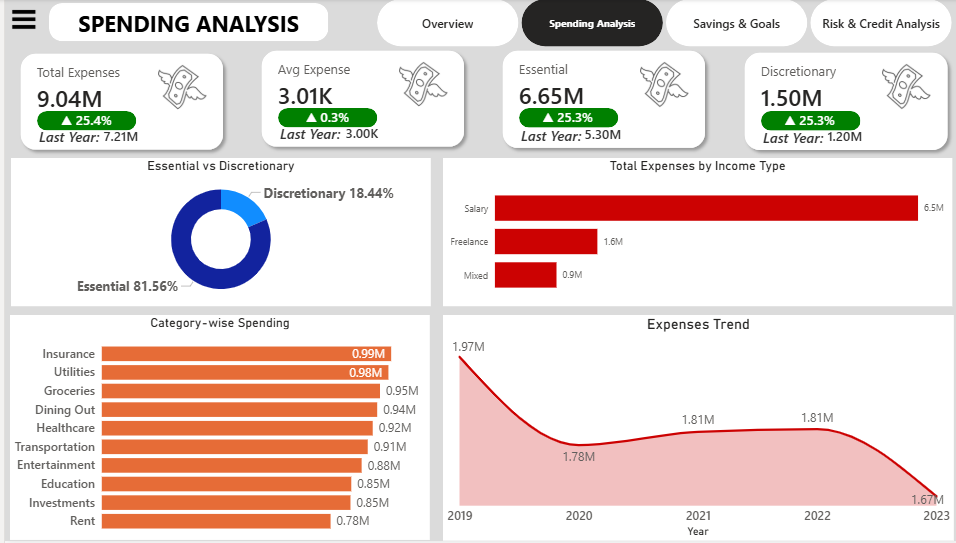

Layout of this report page (visuals, bound fields, positions):
{"tool":"powerbi","page":{"name":"Spending Analysis","canvas":[1280,720],"ordinal":1},"visuals":[{"type":"group","id":"g1","title":"SPENDING PAGE","box":[0,0,1261.4,720],"z":0},{"type":"shape","box":[332.7,60,286.8,145.4],"z":0,"group":"g11"},{"type":"shape","box":[653.1,60,286.8,147],"z":0,"group":"g12"},{"type":"shape","box":[974.1,62,287.4,147.2],"z":0,"group":"g13"},{"type":"shape","box":[12.3,64.1,286.8,145.4],"z":0,"group":"g10"},{"type":"shape","title":"YOY BG","box":[362.9,145,132.1,25.9],"z":0,"group":"g6"},{"type":"shape","title":"YOY BG","box":[683.3,145.9,132.1,26.2],"z":0,"group":"g7"},{"type":"shape","title":"YOY BG","box":[1004.3,148,132.4,26.2],"z":0,"group":"g8"},{"type":"shape","title":"YOY BG","box":[42.5,149.1,132.1,25.9],"z":0,"group":"g9"},{"type":"shape","title":"Last Year:","box":[366.3,167.1,89.3,19.8],"z":0,"group":"g2"},{"type":"shape","title":"Last Year:","box":[686.7,168.3,89.3,20],"z":0,"group":"g3"},{"type":"shape","title":"Last Year:","box":[1007.7,170.4,89.5,20],"z":0,"group":"g4"},{"type":"shape","title":"Last Year:","box":[45.9,171.2,89.3,19.8],"z":0,"group":"g5"},{"type":"cardVisual","fields":{"Data":["Meaasure.Avg Expense"]},"box":[346.5,65.5,261.1,97.2],"z":1000,"group":"g11"},{"type":"cardVisual","fields":{"Data":["Meaasure.Essential"]},"box":[666.9,65.5,261.1,98.4],"z":1000,"group":"g12"},{"type":"cardVisual","fields":{"Data":["Meaasure.Discretionary"]},"box":[988,67.5,261.7,98.5],"z":1000,"group":"g13"},{"type":"cardVisual","fields":{"Data":["Meaasure.Total Expenses"]},"box":[26.1,69.6,261.1,97.2],"z":1000,"group":"g10"},{"type":"cardVisual","title":"YOY %","fields":{"Data":["Meaasure.YOY avg expense %"]},"box":[384.2,137.1,89.5,33.8],"z":1000,"group":"g6"},{"type":"cardVisual","title":"YOY %","fields":{"Data":["Meaasure.YOY for avg essential %"]},"box":[705,137.7,87.7,33.8],"z":1000,"group":"g7"},{"type":"cardVisual","title":"YOY %","fields":{"Data":["Meaasure.YOY Discretinory %"]},"box":[1026.1,139.8,87.9,33.8],"z":1000,"group":"g8"},{"type":"cardVisual","title":"YOY %","fields":{"Data":["Meaasure.YOY for expense %"]},"box":[63.8,141.2,89.5,33.8],"z":1000,"group":"g9"},{"type":"cardVisual","title":"LY ","fields":{"Data":["Meaasure.Last year Avg Expense"]},"box":[434.2,157.2,82.2,36.7],"z":1000,"group":"g2"},{"type":"cardVisual","title":"LY ","fields":{"Data":["Meaasure.Last year Avg Essential"]},"box":[754.6,158.3,82.2,37.1],"z":1000,"group":"g3"},{"type":"cardVisual","title":"LY ","fields":{"Data":["Meaasure.Last year Discretionary"]},"box":[1075.7,160.4,82.4,37.2],"z":1000,"group":"g4"},{"type":"cardVisual","title":"LY ","fields":{"Data":["Meaasure.Last year Expense"]},"box":[113.8,161.3,82.2,36.7],"z":1000,"group":"g5"},{"type":"group","id":"g2","title":"Group 1","box":[366.3,157.2,150,36.7],"z":2000,"group":"g11"},{"type":"group","id":"g3","title":"Group 1","box":[686.7,158.3,150,37.1],"z":2000,"group":"g12"},{"type":"group","id":"g4","title":"Group 1","box":[1007.7,160.4,150.4,37.2],"z":2000,"group":"g13"},{"type":"group","id":"g5","title":"Group 1","box":[45.9,161.3,150,36.7],"z":2000,"group":"g10"},{"type":"lineChart","title":"Expenses Trend","fields":{"Y":["Meaasure.Total Expenses"],"Category":["Calendar.Year"]},"box":[582.5,419.5,678.9,300.5],"z":2000,"group":"g1"},{"type":"group","id":"g6","title":"Group 2","box":[362.9,137.1,132.1,33.8],"z":3000,"group":"g11"},{"type":"group","id":"g7","title":"Group 2","box":[683.3,137.7,132.1,34.4],"z":3000,"group":"g12"},{"type":"group","id":"g8","title":"Group 2","box":[1004.3,139.8,132.4,34.4],"z":3000,"group":"g13"},{"type":"group","id":"g9","title":"Group 2","box":[42.5,141.2,132.1,33.8],"z":3000,"group":"g10"},{"type":"donutChart","title":"Essential vs Discretionary","fields":{"Y":["Meaasure.Discretionary","Meaasure.Essential"]},"box":[7.5,211.8,557.9,196.9],"z":3000,"group":"g1"},{"type":"clusteredBarChart","title":"Category-wise Spending","fields":{"Y":["Meaasure.Total Expenses"],"Category":["PERSONAL FINANCE TRACKER - Shee.category"]},"box":[7.1,419.5,558.4,299.1],"z":4000,"group":"g1"},{"type":"barChart","title":"Total Expenses by Income Type","fields":{"Category":["PERSONAL FINANCE TRACKER - Shee.income_type"],"Y":["Meaasure.Total Expenses"]},"box":[581.8,211.8,677.3,196.9],"z":5000,"group":"g1"},{"type":"pageNavigator","box":[493.9,0,767.5,63.4],"z":7000,"group":"g1"},{"type":"group","id":"g10","title":"total Expenses","box":[12.3,64.1,286,147],"z":8000,"group":"g1"},{"type":"group","id":"g11","title":"avg expense","box":[332.7,60,286,147],"z":9000,"group":"g1"},{"type":"group","id":"g12","title":"avg essential","box":[653.1,60,286,147],"z":10000,"group":"g1"},{"type":"group","id":"g13","title":"avg Discretionary","box":[974.1,62,286,147],"z":11000,"group":"g1"},{"type":"shape","box":[58.4,5.7,371.4,50.9],"z":12000,"group":"g1"},{"type":"image","title":"MENU","box":[0,0,49.6,53.9],"z":13000,"group":"g1"}]}

Visuals, with their boxes in screenshot pixels (x1, y1, x2, y2), scaled from the page's 1280x720 canvas onto the 956x543 screenshot:
"SPENDING PAGE" group: bbox=(0, 0, 942, 542)
shape: bbox=(248, 45, 463, 155)
shape: bbox=(488, 45, 702, 156)
shape: bbox=(728, 47, 942, 158)
shape: bbox=(9, 48, 223, 158)
"YOY BG" shape: bbox=(271, 109, 370, 129)
"YOY BG" shape: bbox=(510, 110, 609, 130)
"YOY BG" shape: bbox=(750, 112, 849, 131)
"YOY BG" shape: bbox=(32, 112, 130, 132)
"Last Year:" shape: bbox=(274, 126, 340, 141)
"Last Year:" shape: bbox=(513, 127, 580, 142)
"Last Year:" shape: bbox=(753, 129, 819, 144)
"Last Year:" shape: bbox=(34, 129, 101, 144)
cardVisual - Meaasure.Avg Expense: bbox=(259, 49, 454, 123)
cardVisual - Meaasure.Essential: bbox=(498, 49, 693, 124)
cardVisual - Meaasure.Discretionary: bbox=(738, 51, 933, 125)
cardVisual - Meaasure.Total Expenses: bbox=(19, 52, 215, 126)
"YOY %" cardVisual: bbox=(287, 103, 354, 129)
"YOY %" cardVisual: bbox=(527, 104, 592, 129)
"YOY %" cardVisual: bbox=(766, 105, 832, 131)
"YOY %" cardVisual: bbox=(48, 106, 114, 132)
"LY " cardVisual: bbox=(324, 119, 386, 146)
"LY " cardVisual: bbox=(564, 119, 625, 147)
"LY " cardVisual: bbox=(803, 121, 865, 149)
"LY " cardVisual: bbox=(85, 122, 146, 149)
"Group 1" group: bbox=(274, 119, 386, 146)
"Group 1" group: bbox=(513, 119, 625, 147)
"Group 1" group: bbox=(753, 121, 865, 149)
"Group 1" group: bbox=(34, 122, 146, 149)
"Expenses Trend" lineChart: bbox=(435, 316, 942, 542)
"Group 2" group: bbox=(271, 103, 370, 129)
"Group 2" group: bbox=(510, 104, 609, 130)
"Group 2" group: bbox=(750, 105, 849, 131)
"Group 2" group: bbox=(32, 106, 130, 132)
"Essential vs Discretionary" donutChart: bbox=(6, 160, 422, 308)
"Category-wise Spending" clusteredBarChart: bbox=(5, 316, 422, 542)
"Total Expenses by Income Type" barChart: bbox=(435, 160, 940, 308)
pageNavigator: bbox=(369, 0, 942, 48)
"total Expenses" group: bbox=(9, 48, 223, 159)
"avg expense" group: bbox=(248, 45, 462, 156)
"avg essential" group: bbox=(488, 45, 701, 156)
"avg Discretionary" group: bbox=(728, 47, 941, 158)
shape: bbox=(44, 4, 321, 43)
"MENU" image: bbox=(0, 0, 37, 41)
